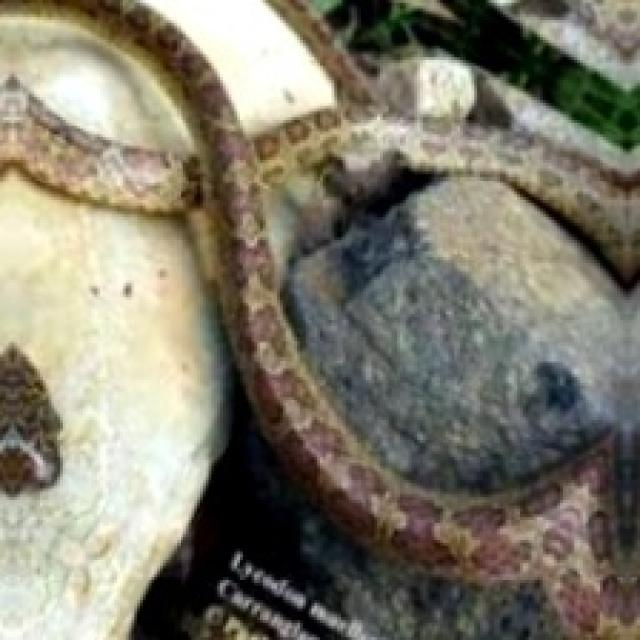mullers wolf snake: (0, 0, 637, 637), (211, 560, 360, 637)
